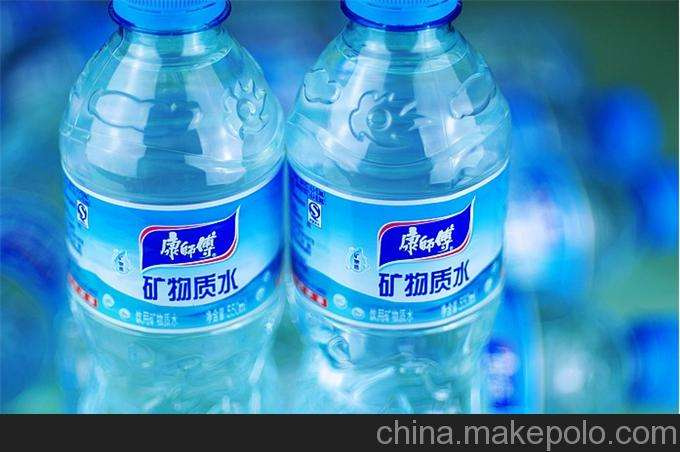amwater: (53, 1, 296, 422), (297, 1, 522, 433)
